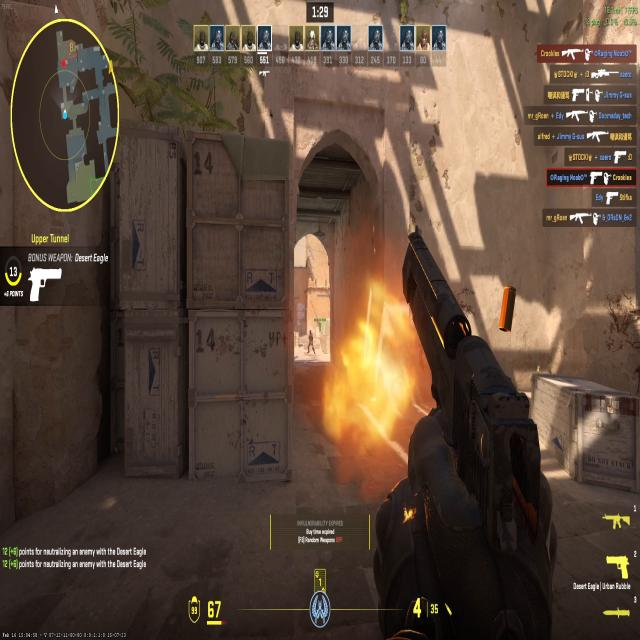player: (307, 328, 316, 356)
